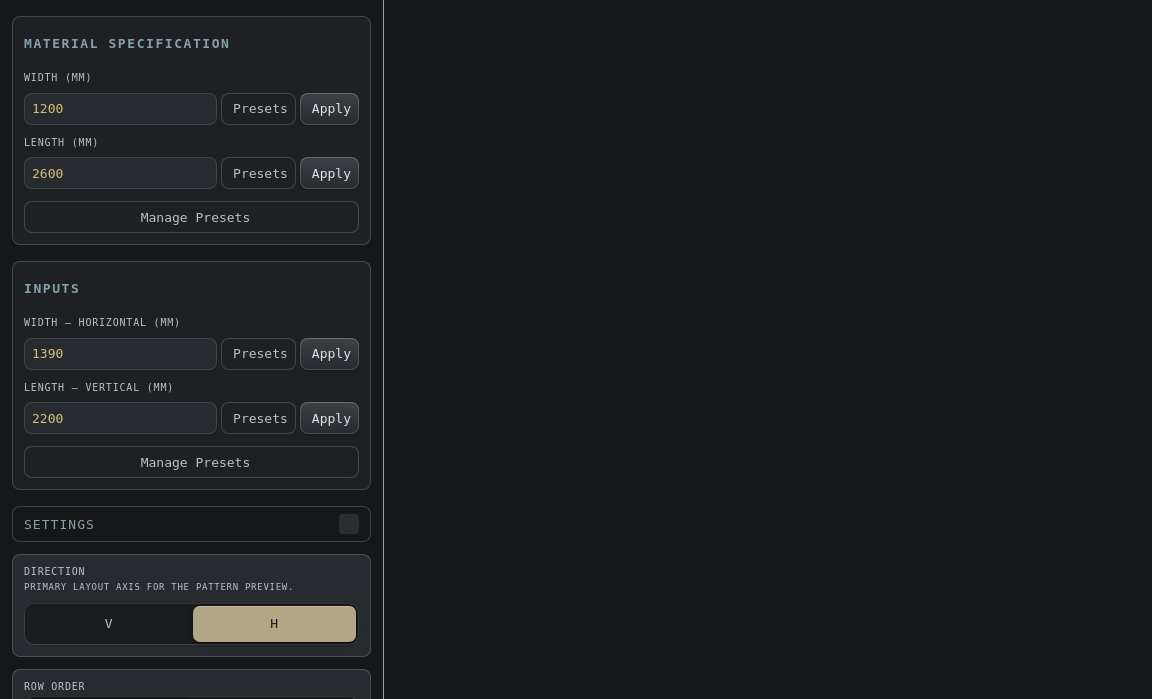
Test: the surface layout page › returns to guidance when a required dimension is cleared
Clear the dropdown with id "input-W" at (121, 354), box [24,338,217,370]
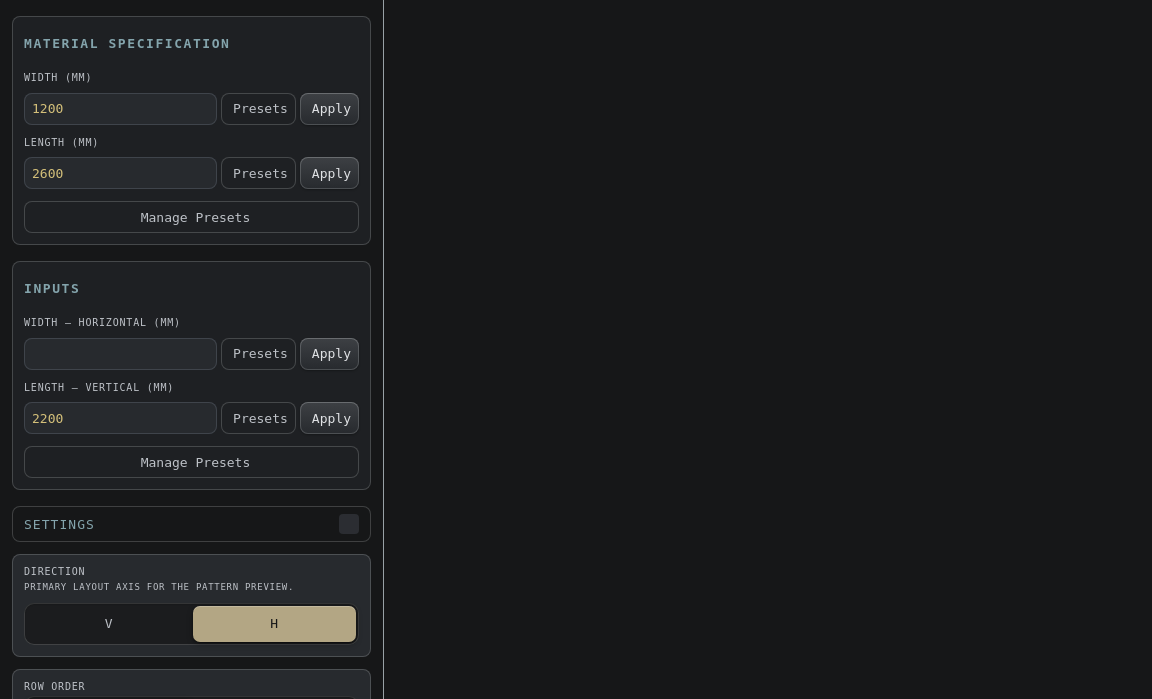
Leave the dropdown with id "input-W", box [24,338,217,370]
(page scrolled)
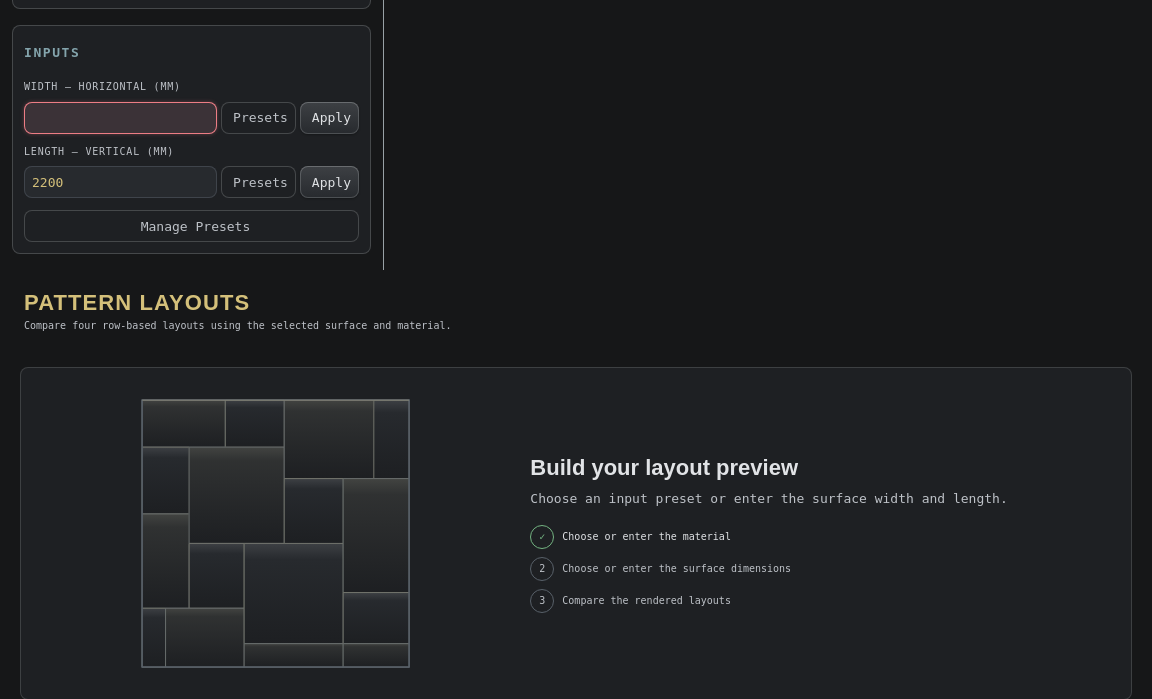
Now the text "Choose an input preset or enter the surface width and length." is shown, box [530,490,1008,506]
